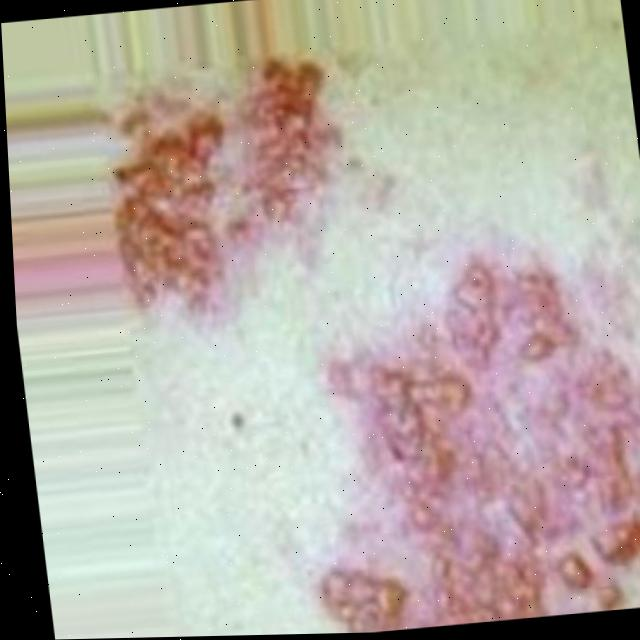Shingles: (283, 268, 640, 634), (94, 67, 338, 302)
